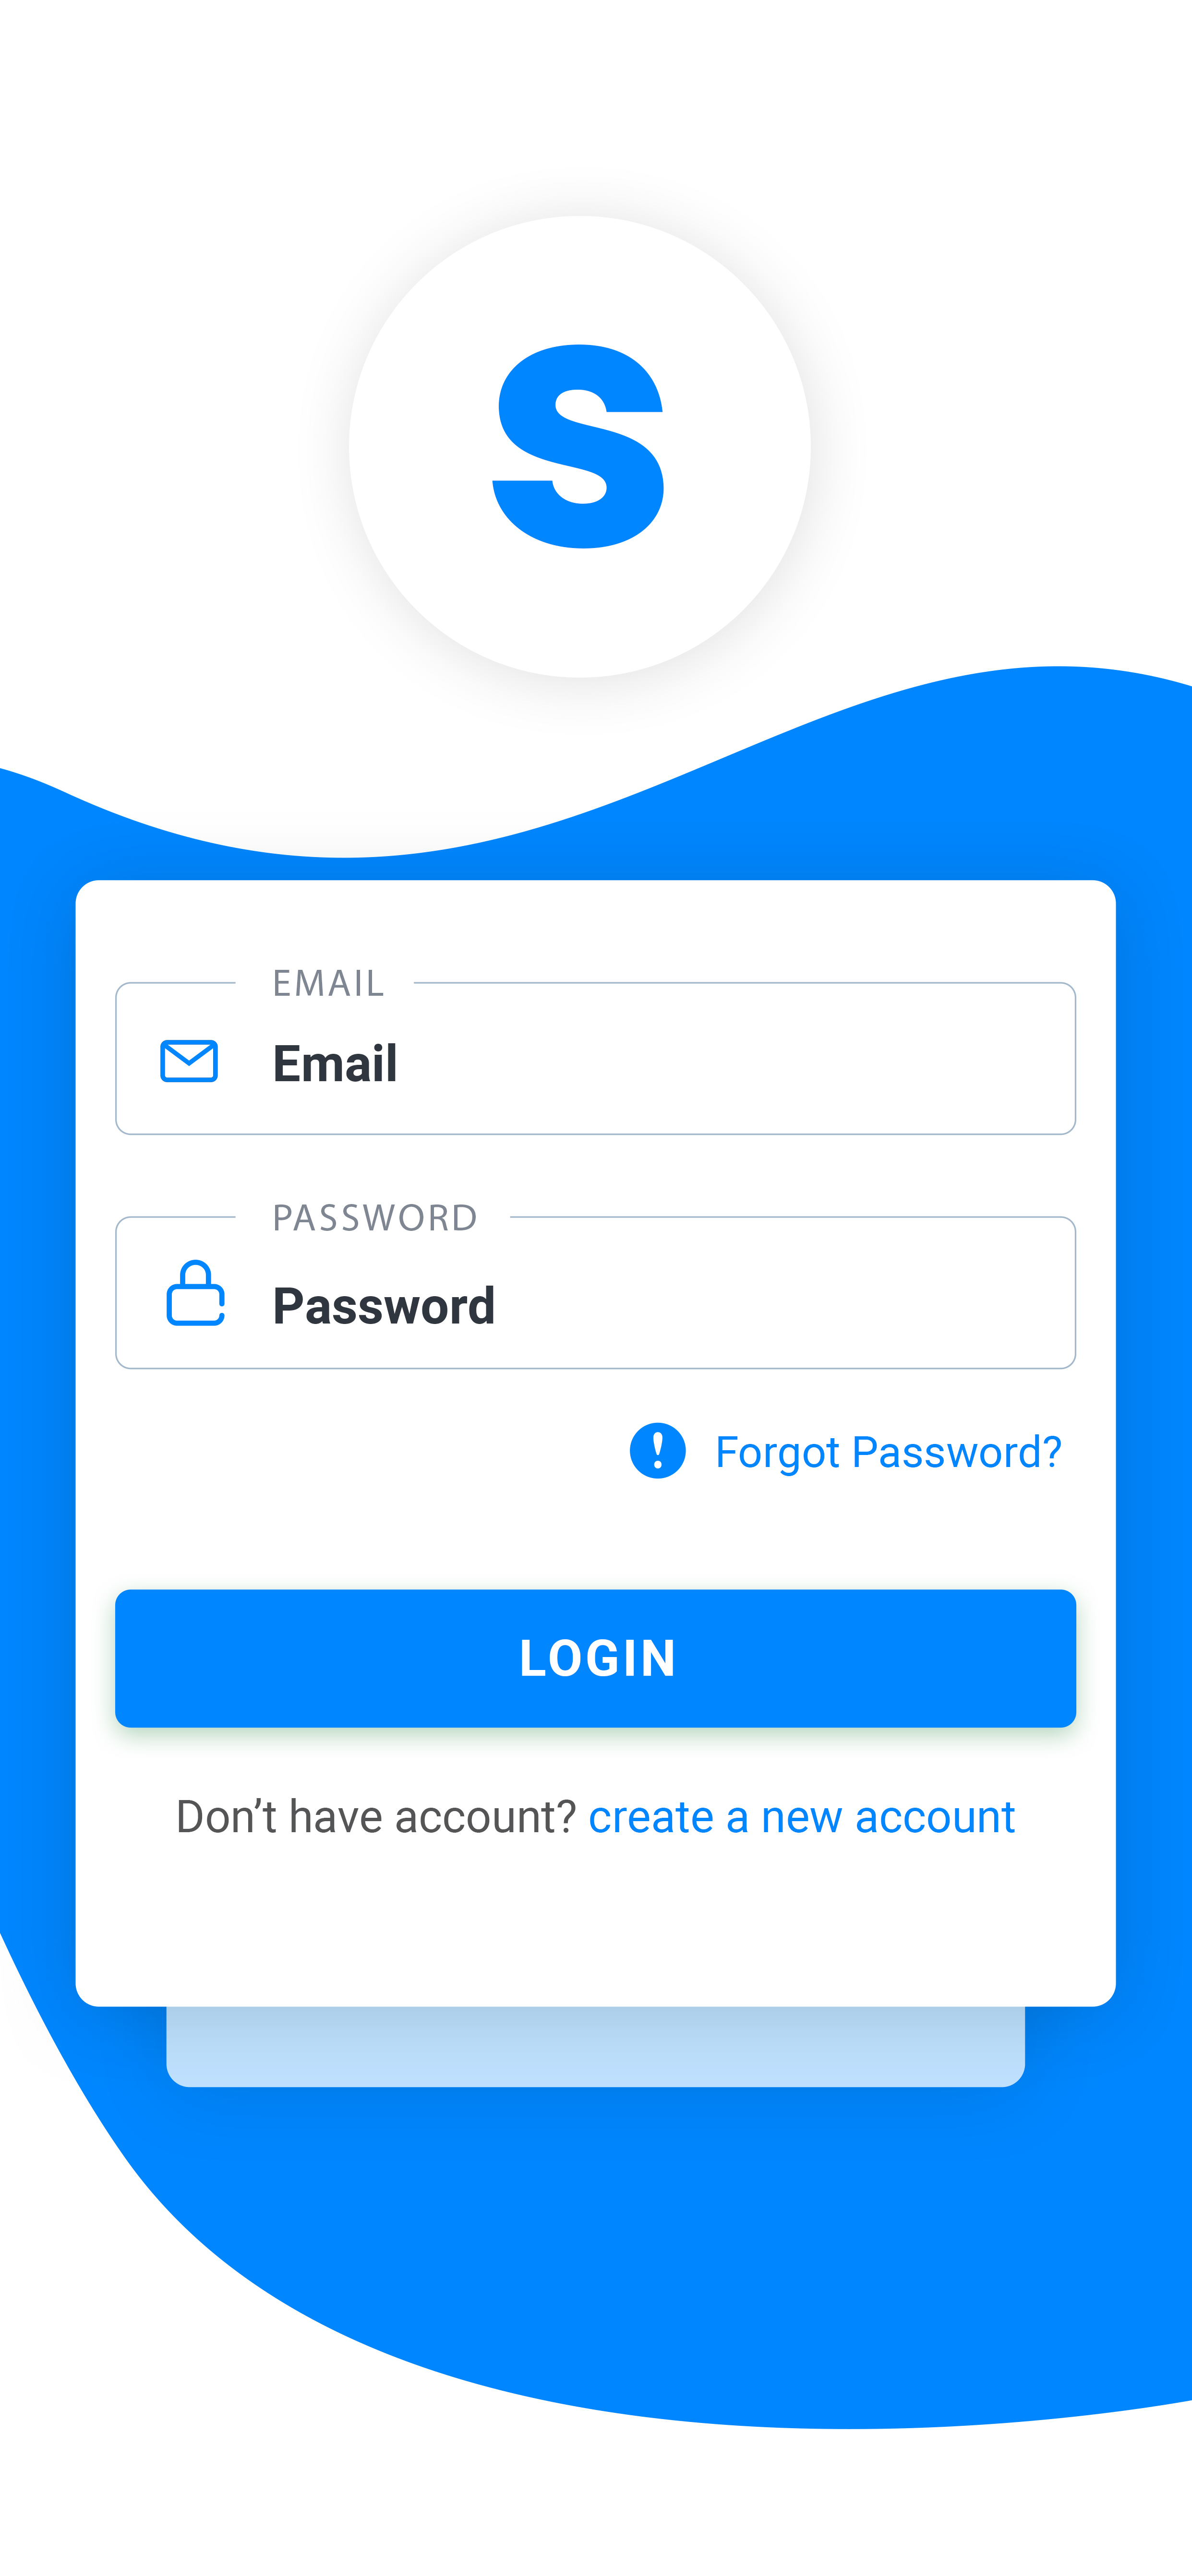EditText: (115, 1204, 1077, 1370), (115, 969, 1077, 1135)
Icon: (166, 1260, 225, 1326), (630, 1423, 687, 1479), (161, 1040, 219, 1083)
Image: (347, 215, 812, 680)
Text: (178, 1797, 1016, 1833), (718, 1434, 1062, 1477), (275, 1286, 493, 1324), (275, 1204, 477, 1232), (275, 1043, 396, 1083), (275, 969, 383, 997)
TextButton: (115, 1589, 1077, 1728)
